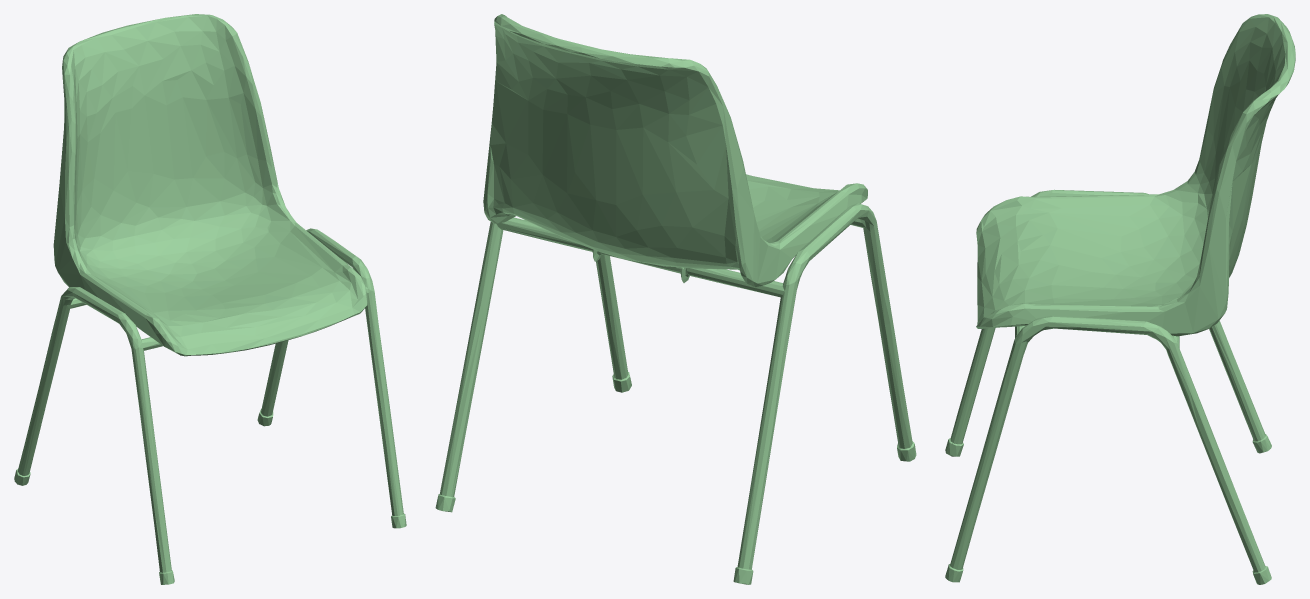
Rendered from sandalye.glb.
The picture shows the model from 3 angles, left to right: view 1: azimuth 30°, elevation 25°; view 2: azimuth 150°, elevation 25°; view 3: azimuth 270°, elevation 25°; orthographic projection. The views are drawn at different scales.
Parts seen in each view (by area): view 1: Mesh1.0; view 2: Mesh1.0; view 3: Mesh1.0.
Boxes of the visible parts, box(x1,y1,x2,y2) form: Mesh1.0: box(14, 14, 406, 584); Mesh1.0: box(435, 14, 916, 584); Mesh1.0: box(945, 14, 1295, 584).
Bounding box in the file's own units: 0.5418 × 0.85 × 0.5791.
